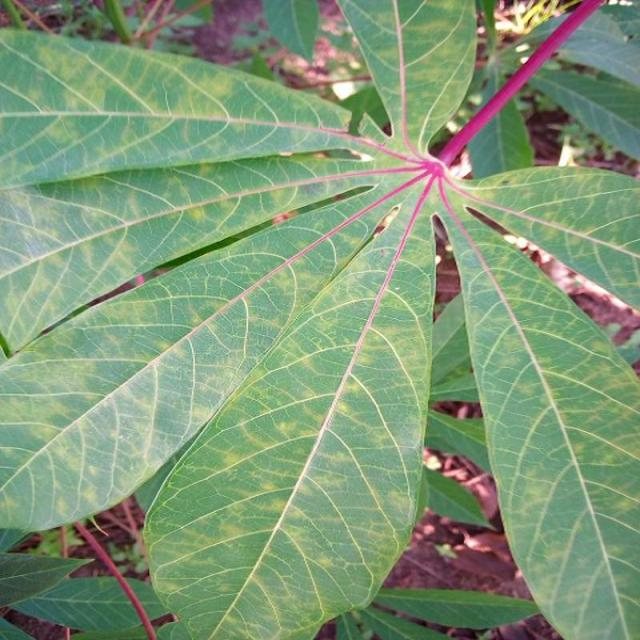cassava leaf: (1, 2, 638, 638), (140, 205, 436, 638), (435, 164, 639, 638)
